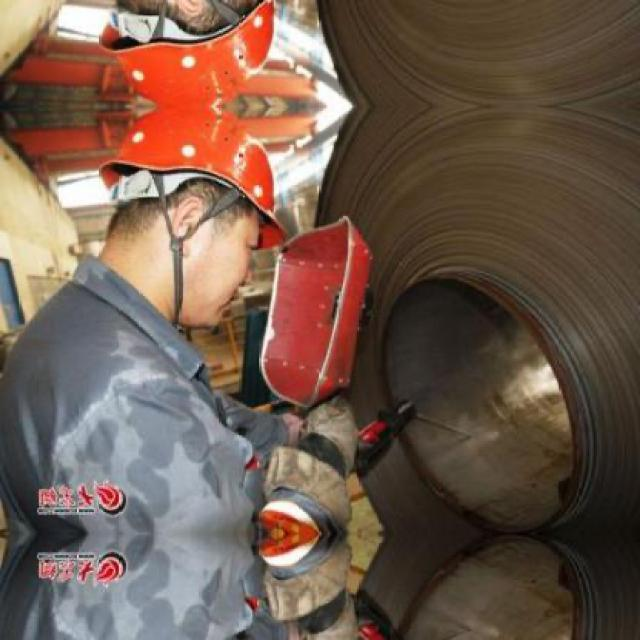helmet: (100, 108, 289, 330), (100, 0, 291, 106)
